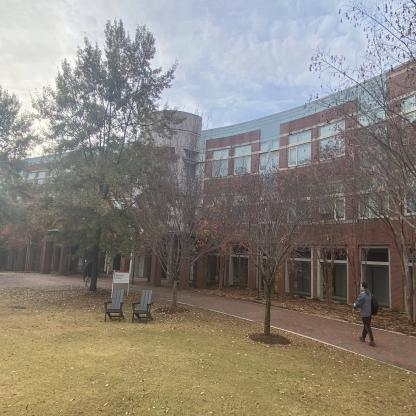EB-1: (19, 85, 411, 315)
